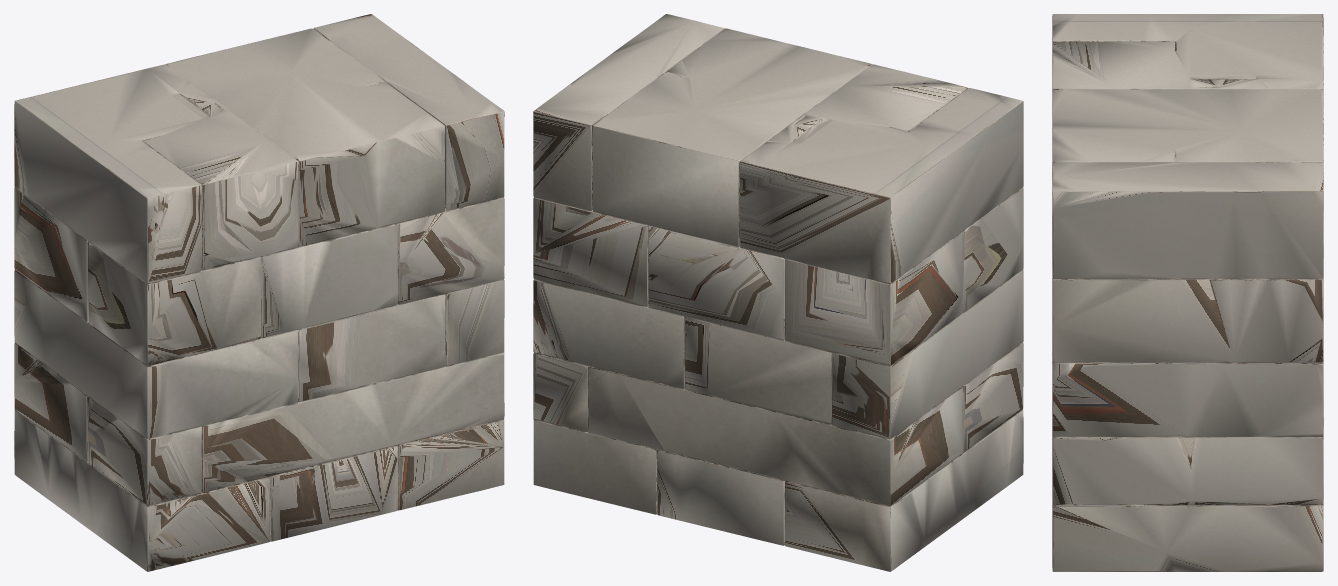
File: walkseg.glb
3 renders of one model, left to right at view 1: azimuth 30°, elevation 25°; view 2: azimuth 150°, elevation 25°; view 3: azimuth 270°, elevation 25°, orthographic.
Bounding box in the file's own units: 1.9 × 1.9 × 1.23.
1 material, 1 textured.
